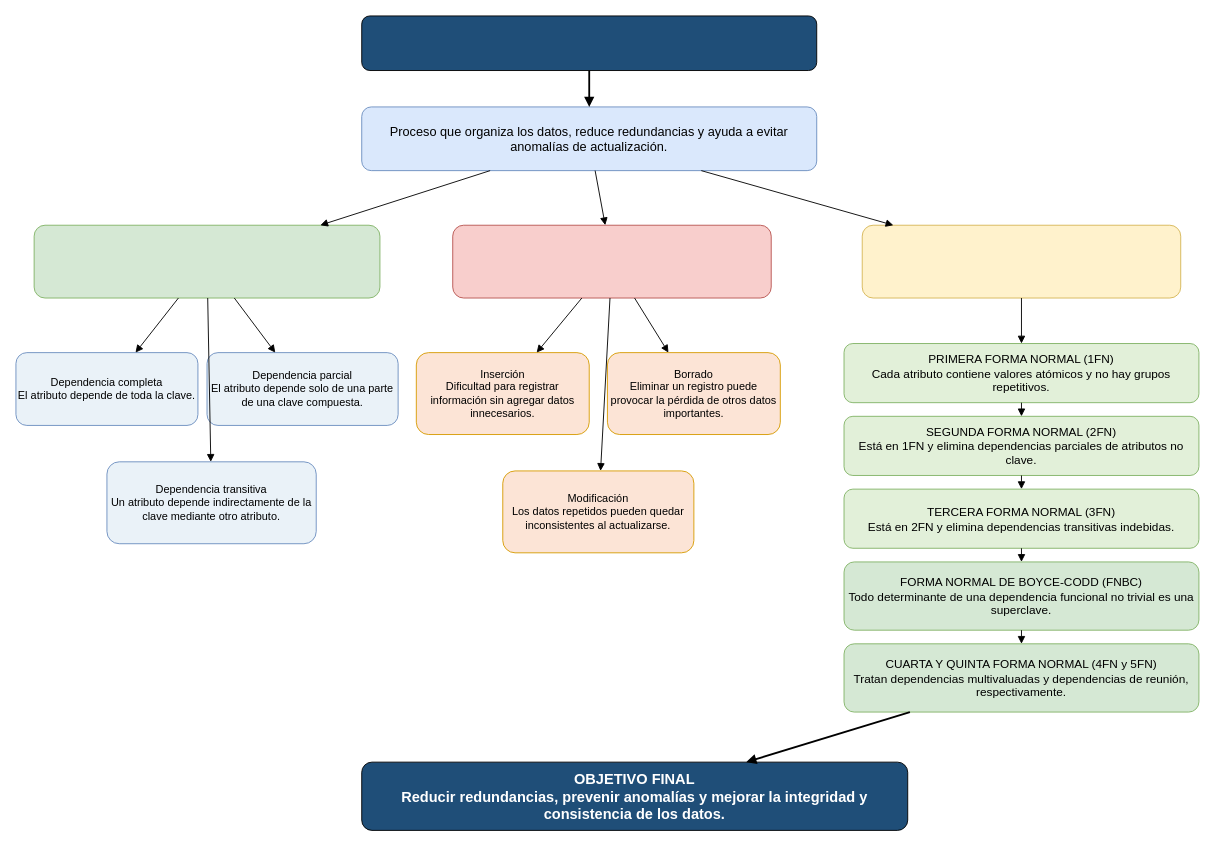
The diagram is 1215 pixels wide and 846 high, and some of its shapes have lost their labels. The centre of each missing label's shape, as x and y in pixels:
"ANOMALÍAS DE ACTUALIZACIÓN" belongs at point (611, 261).
"DEPENDENCIAS FUNCIONALES Una o varias columnas determinan el valor de otras." belongs at point (206, 261).
"FORMAS NORMALES" belongs at point (1021, 261).
"NORMALIZACIÓN DE BASES DE DATOS" belongs at point (589, 43).
